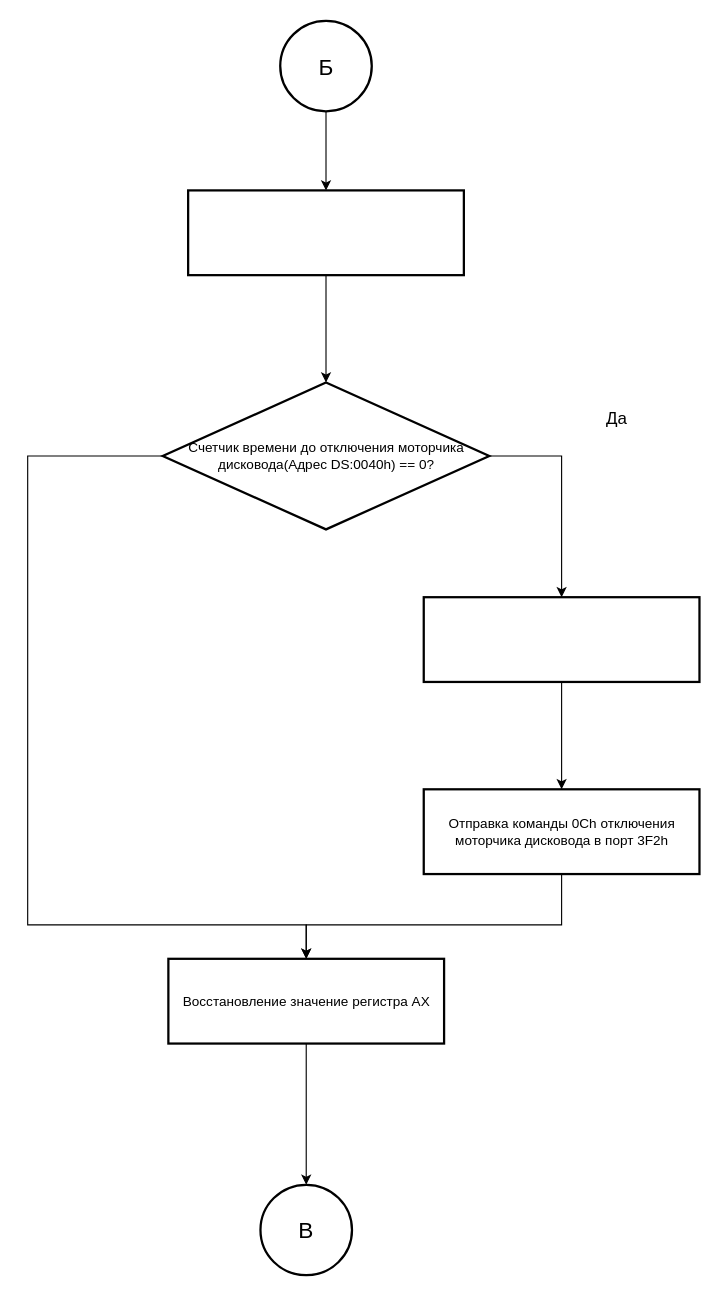
Some shapes in this 720 by 1295 pixel diagram are drawn without their labels. Each missing label, with the centre of its shape:
Декремент счетчика времени до отключения моторчика дисковода по адресу DS:0040h: point 325,232
Сброс флага работы моторчика дисковода в адрес DS:003Fh: point 561,639
